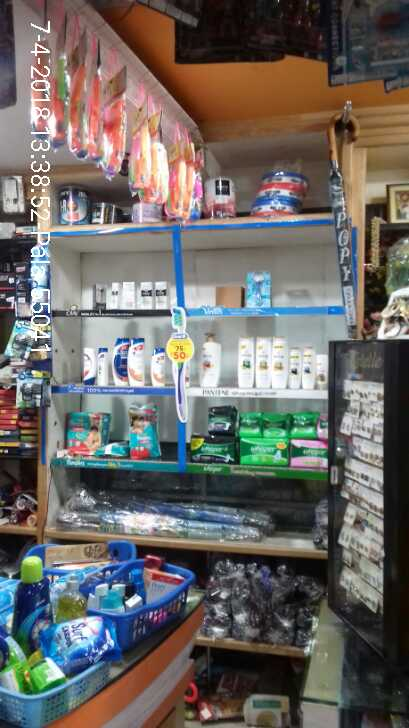venus: (247, 271, 270, 306)
